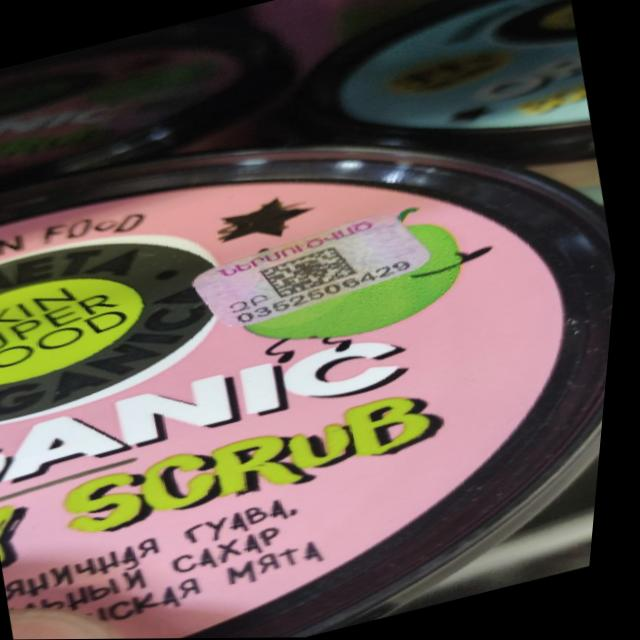datamatrix: (260, 241, 369, 304)
